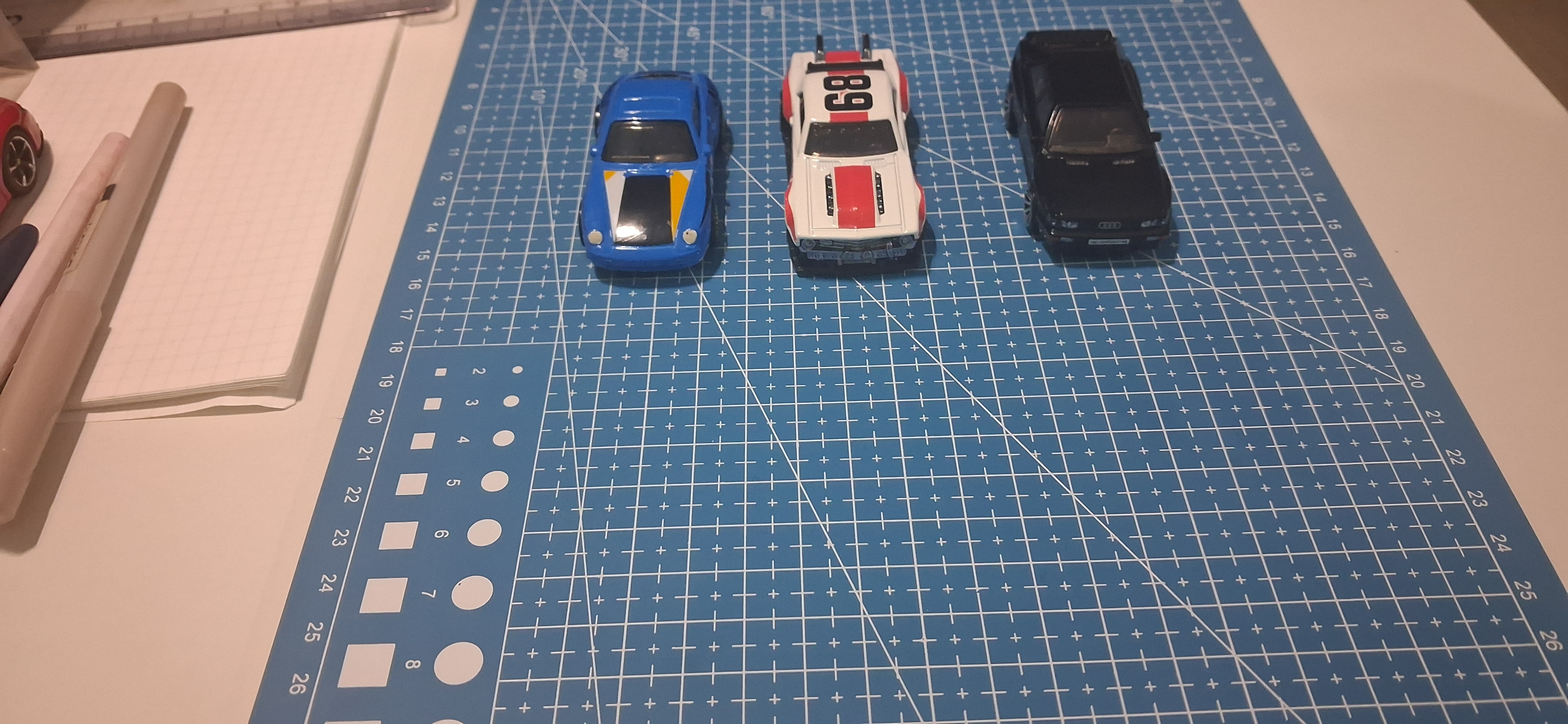Audi_Quattro: (982, 11, 1211, 292)
Camaro: (758, 22, 941, 294)
Porsche_Carrera: (573, 37, 735, 297)
